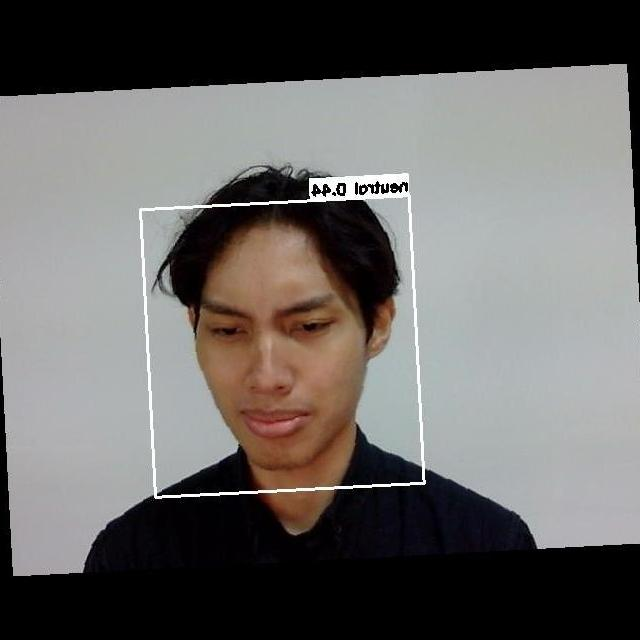Disgust: (185, 278, 367, 438)
